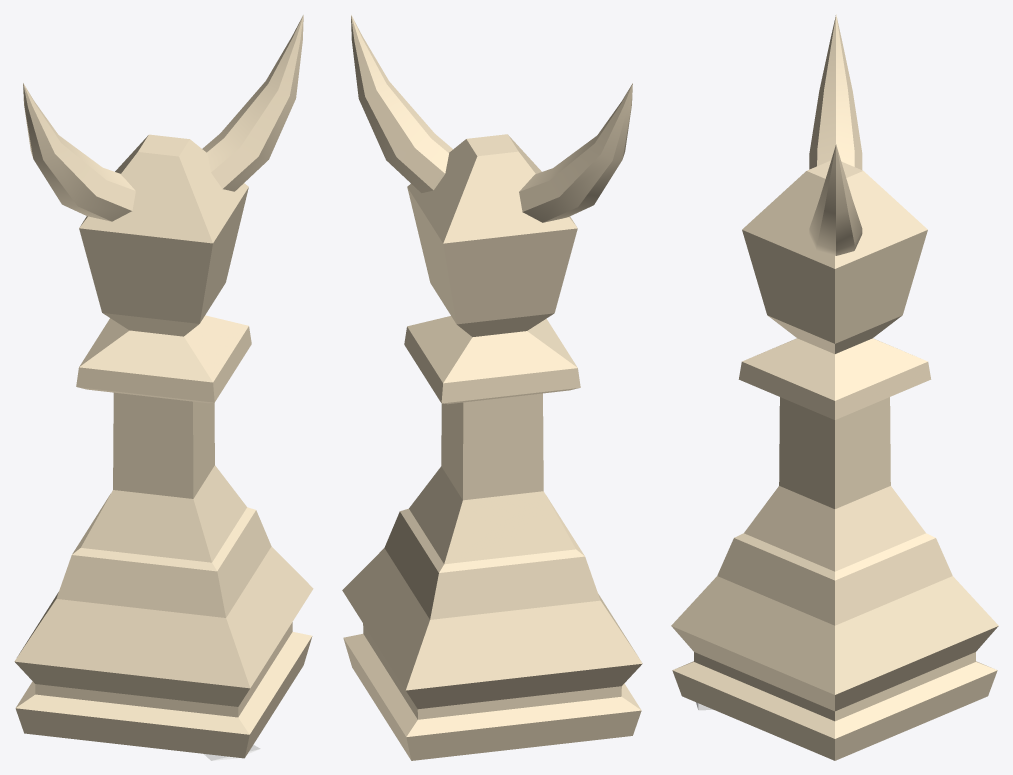
Rendered from Chess_Enemy.fbx.
The picture shows the model from 3 angles, left to right: view 1: azimuth 30°, elevation 25°; view 2: azimuth 150°, elevation 25°; view 3: azimuth 270°, elevation 25°; orthographic projection. The views are drawn at different scales.
Parts seen in each view (by area): view 1: Pawn; view 2: Pawn; view 3: Pawn.
Part boxes in pixels (x1=…): Pawn: x1=14, y1=15, x2=313, y2=760; Pawn: x1=342, y1=15, x2=642, y2=760; Pawn: x1=671, y1=14, x2=998, y2=760.
Bounding box in the file's own units: 45.83 × 96.01 × 45.83.
